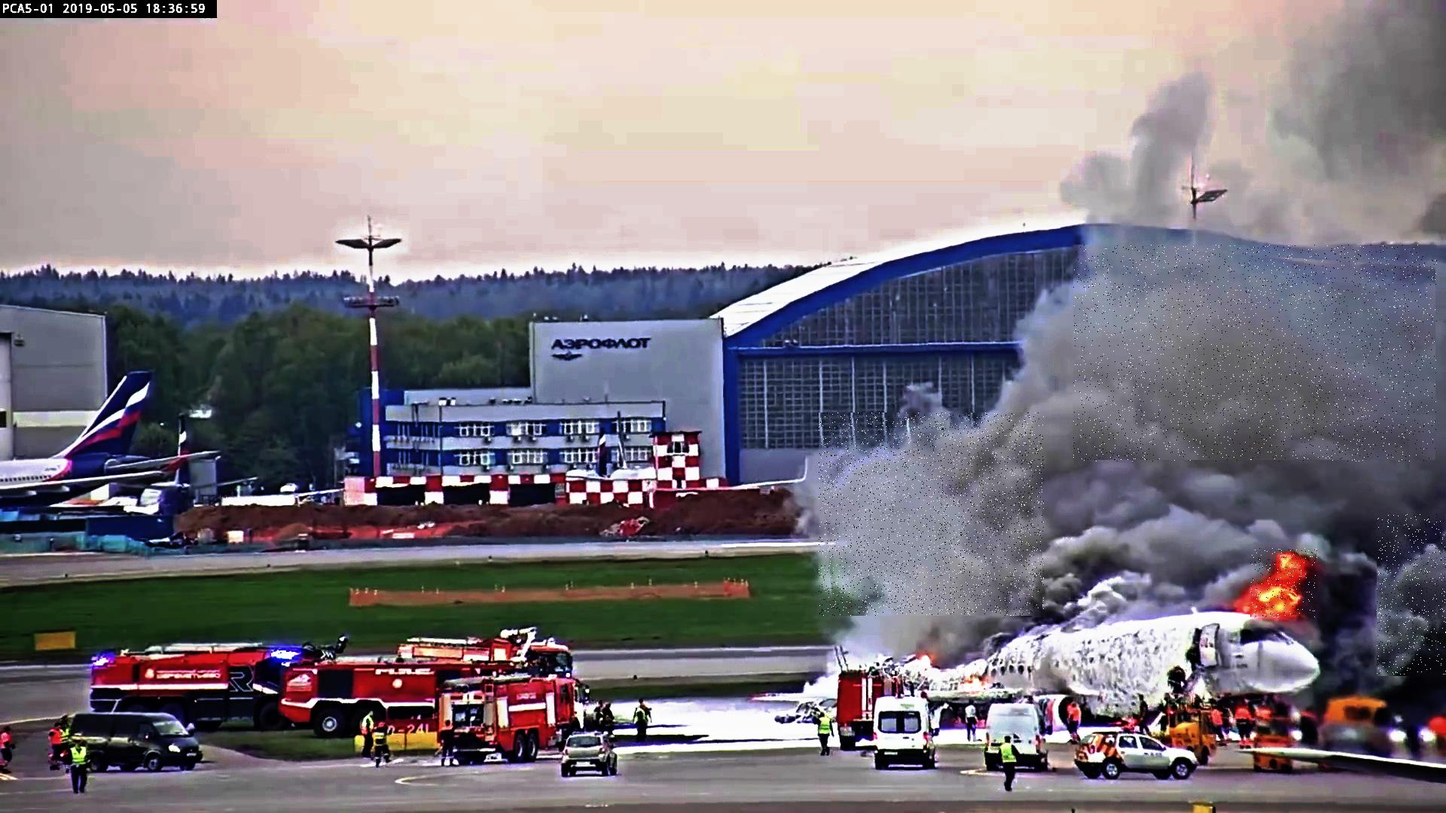fire: (1250, 548, 1317, 617)
smoke: (1074, 245, 1437, 462), (819, 413, 1045, 616), (1377, 514, 1446, 676)
